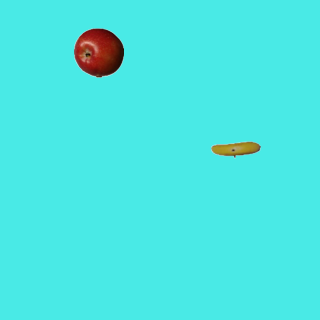Apple Braeburn: (73, 27, 123, 77)
Banana: (210, 124, 260, 174)
